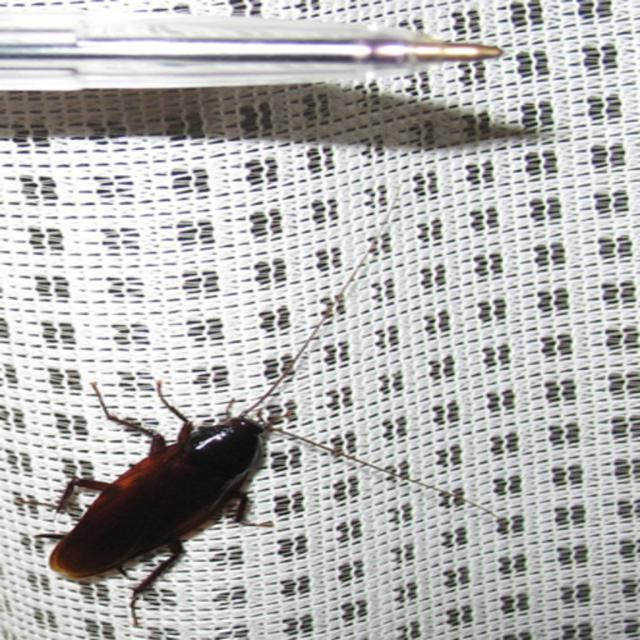pen: (0, 2, 520, 88)
